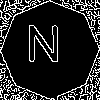N: (25, 25, 62, 72)
